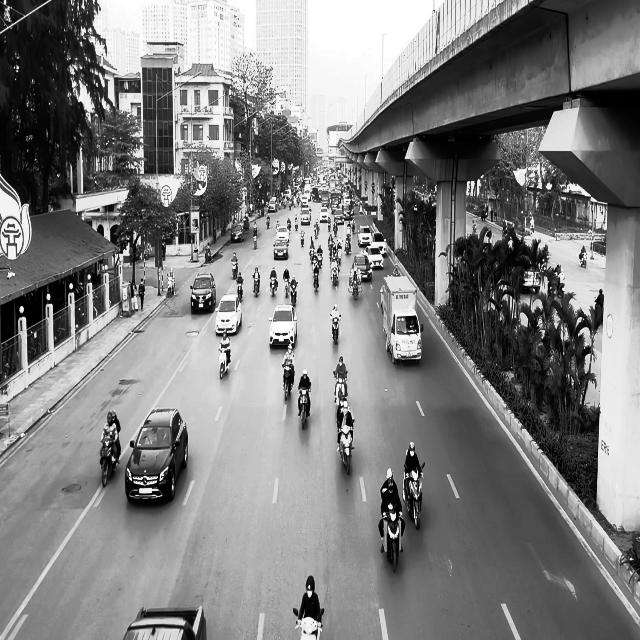car: (125, 407, 188, 503), (268, 304, 298, 348), (215, 294, 242, 335), (190, 273, 216, 314), (273, 238, 288, 260), (230, 223, 244, 242)
motorbike: (402, 462, 425, 529), (381, 508, 405, 572), (336, 419, 355, 475), (99, 434, 119, 486), (293, 607, 324, 639), (297, 387, 311, 429), (333, 370, 347, 405), (282, 363, 294, 401), (218, 344, 230, 379), (330, 314, 341, 344), (311, 263, 320, 292), (269, 274, 278, 296), (252, 274, 260, 297), (236, 278, 243, 302), (579, 252, 587, 267)
truck: (380, 274, 423, 364)
